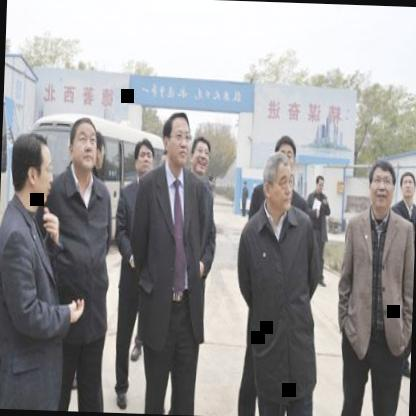head: (8, 129, 55, 213), (67, 112, 102, 180), (261, 150, 297, 212), (161, 105, 193, 170), (366, 155, 398, 216), (273, 136, 300, 180), (190, 133, 214, 182), (132, 136, 156, 181), (398, 167, 416, 207), (314, 174, 326, 198)
